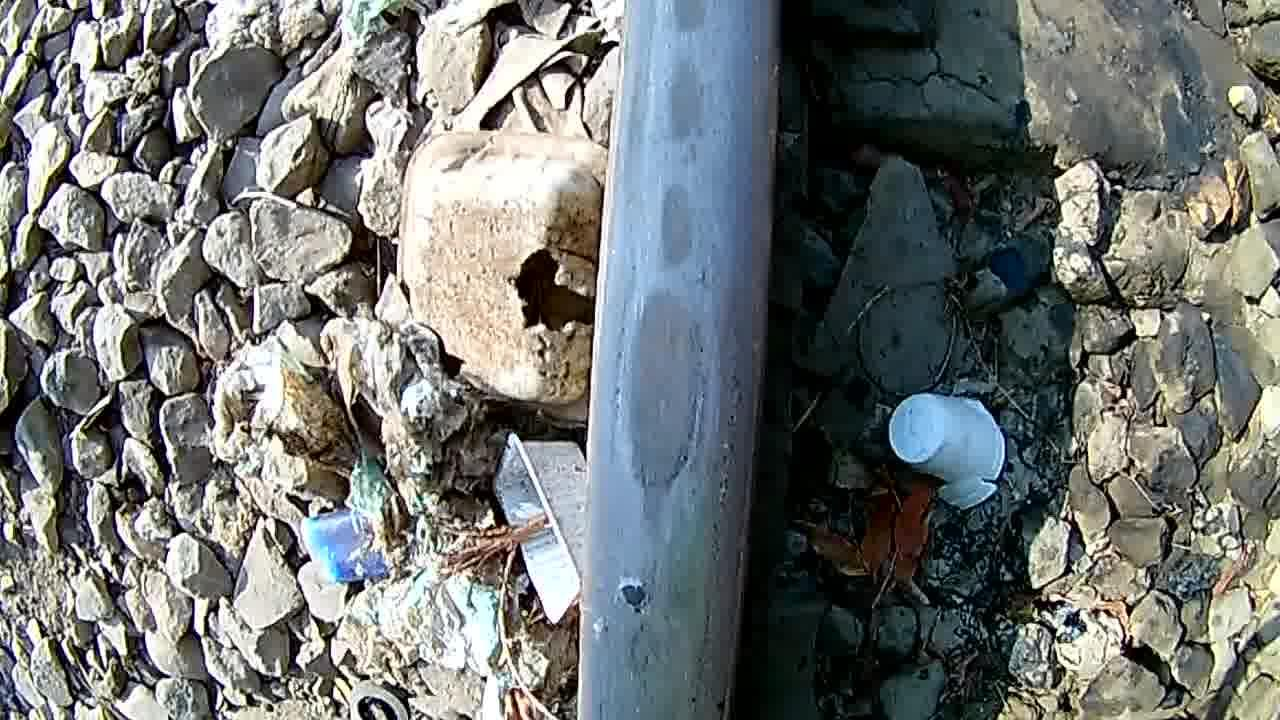bolt_missing: (590, 0, 778, 720)
